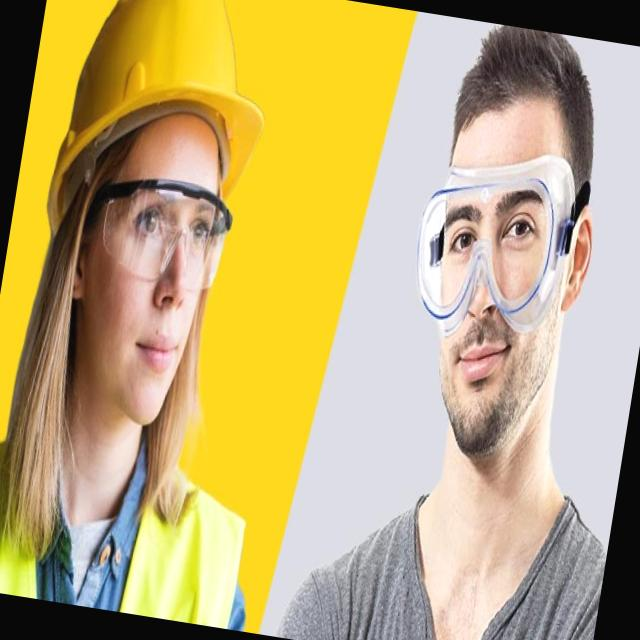goggles: (411, 117, 588, 360), (86, 174, 232, 296)
helmet: (36, 0, 293, 223)
no-helmet: (408, 15, 634, 226)
no-vest: (272, 441, 617, 640)
vest: (0, 395, 266, 630)
